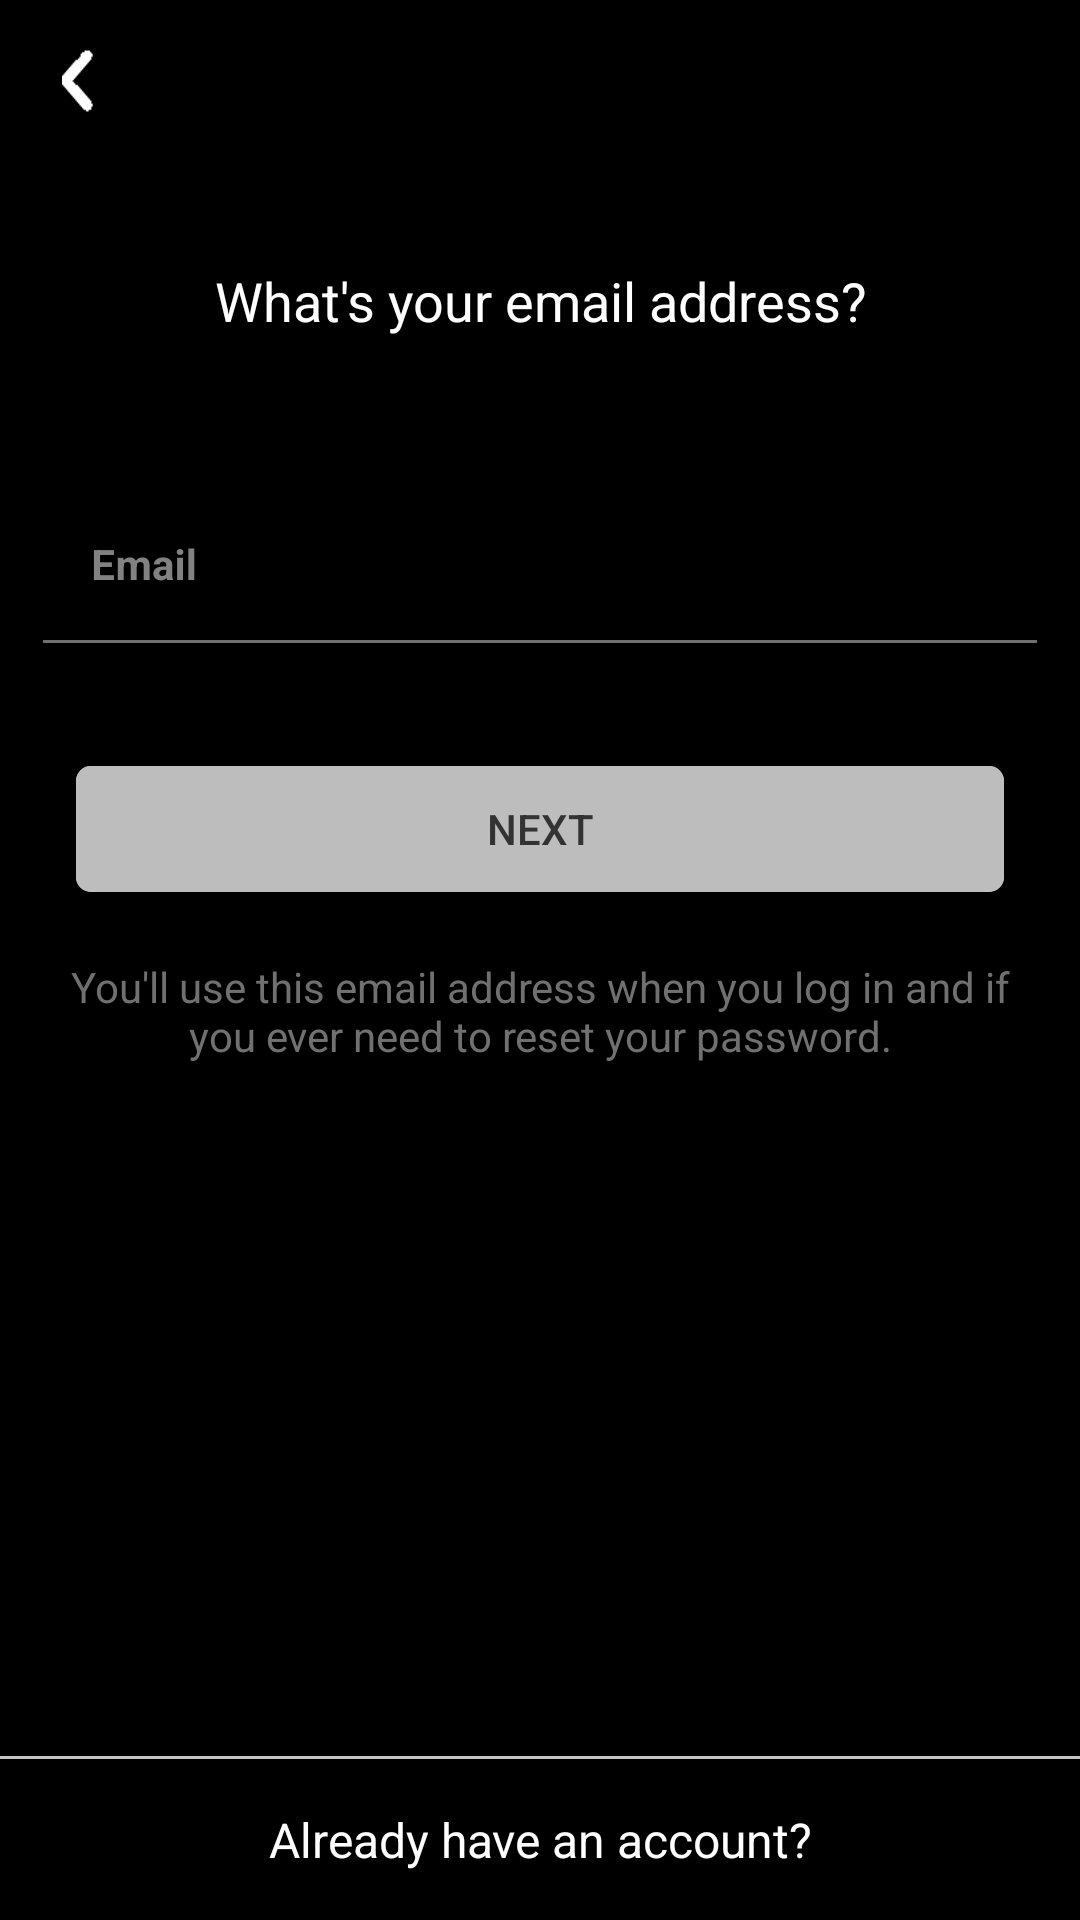

Screen size 1080×1920. Icon name, then its center in pixels as (x=x, y=y):
back: (x=77, y=81)
